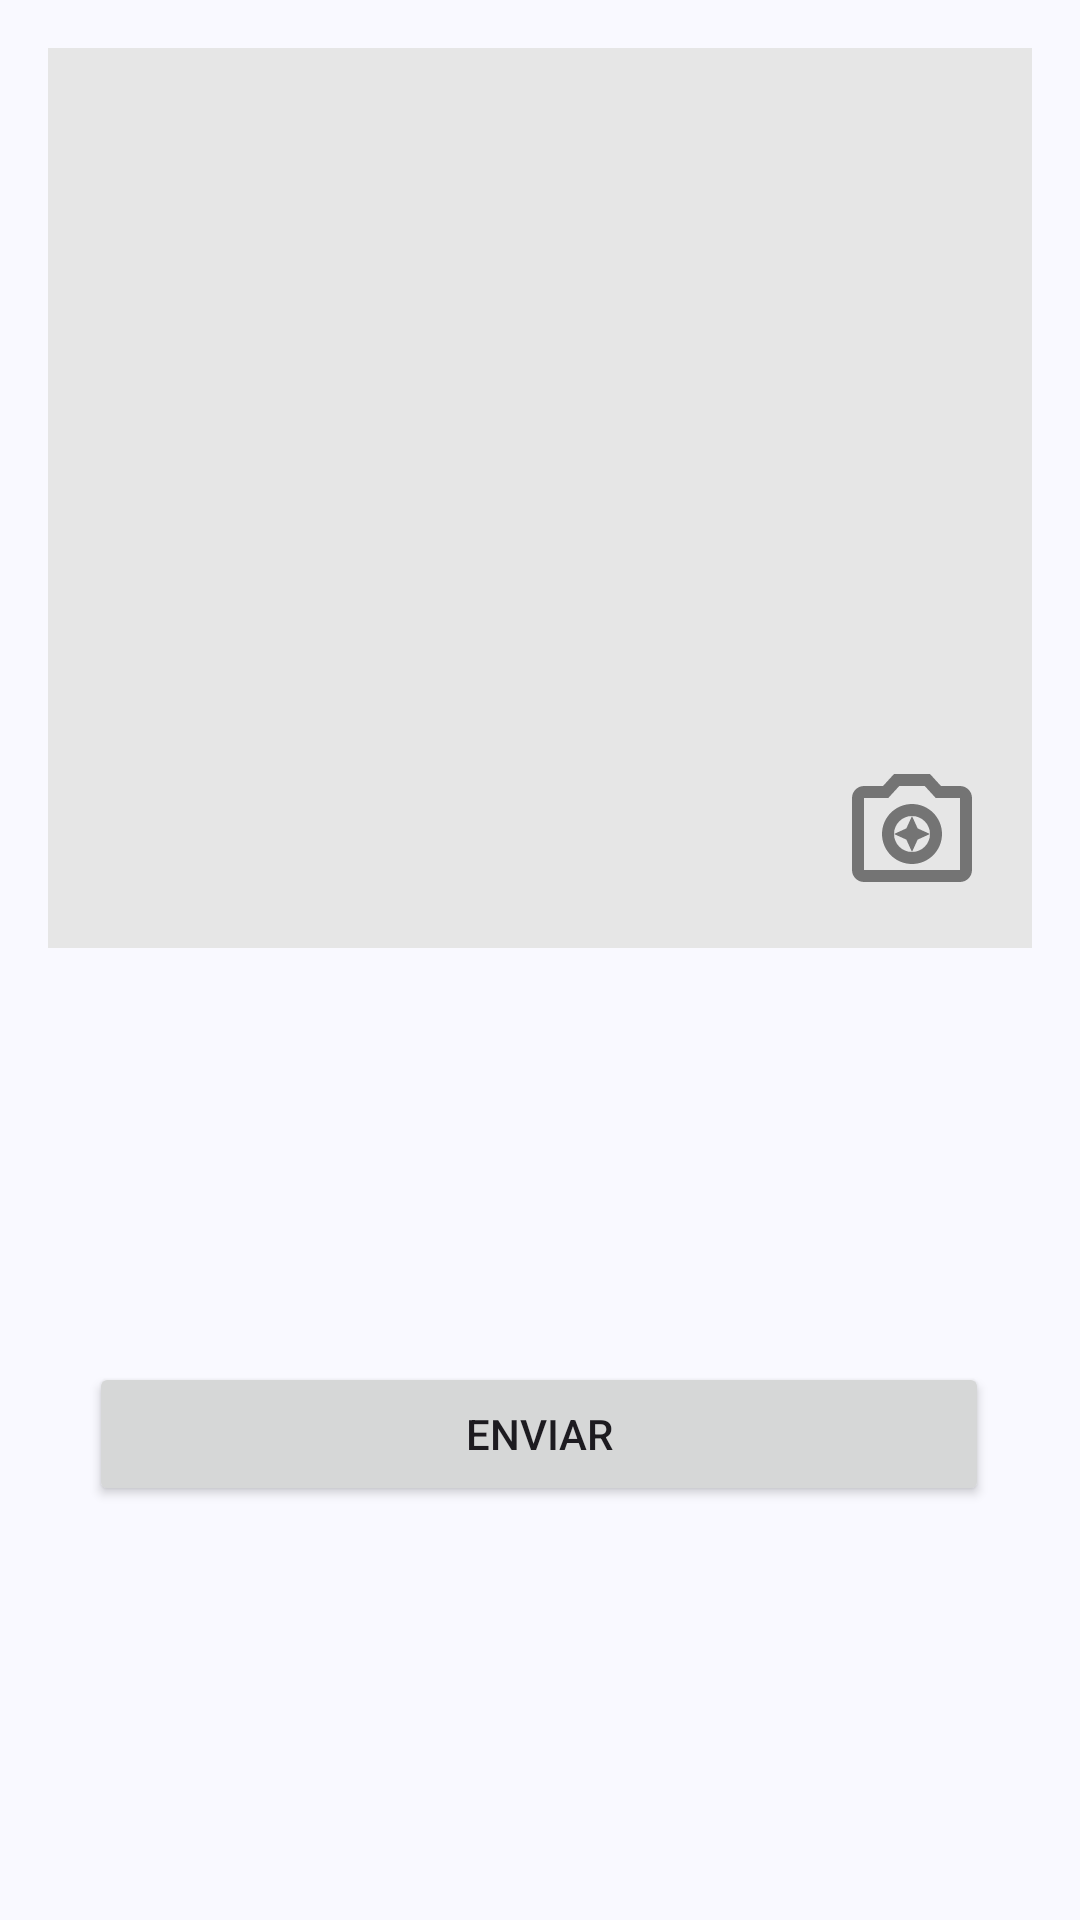

Point at icon controls on the screen. Image size 1080×1920, points as point (x, y).
camera: point (912, 828)
